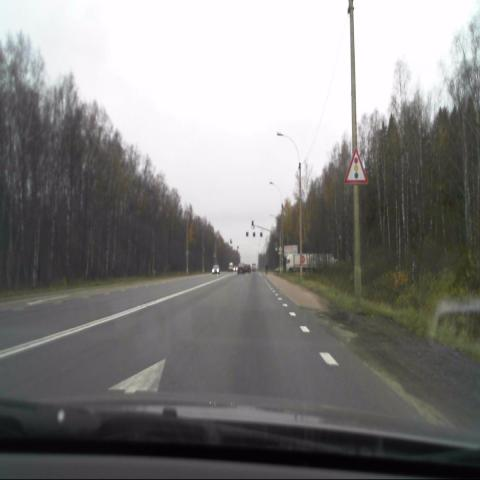1_8: (344, 149, 368, 185)
